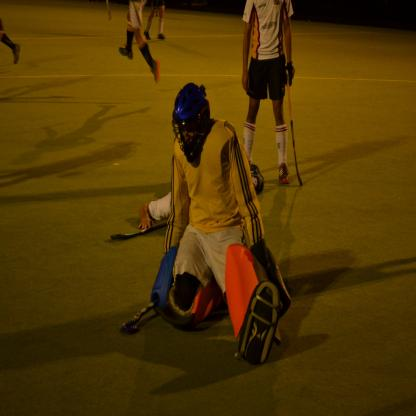Helmet: (172, 81, 220, 158)
